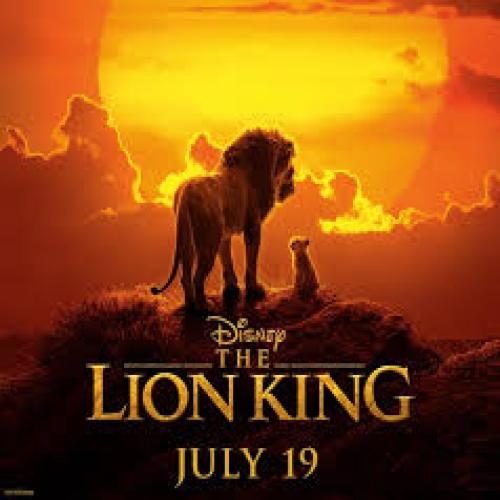lion-endangered: (153, 118, 298, 316), (287, 233, 326, 299)
